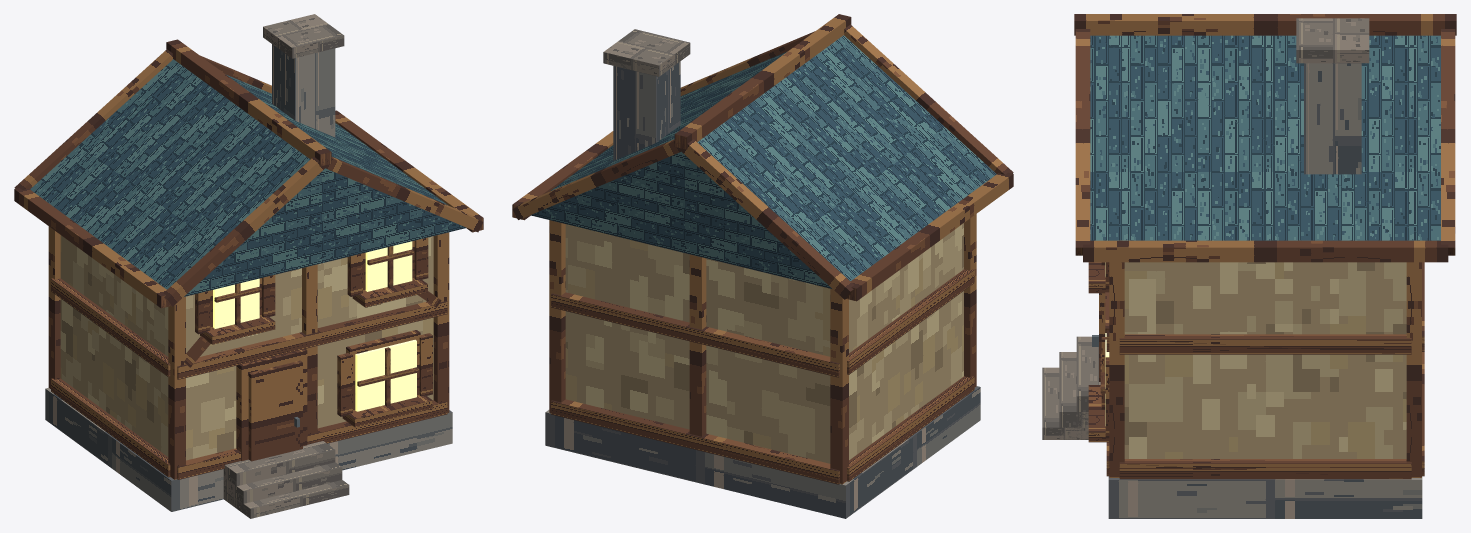
Rendered from cottage.glb.
3 renders of one model, left to right at view 1: azimuth 30°, elevation 25°; view 2: azimuth 150°, elevation 25°; view 3: azimuth 270°, elevation 25°, orthographic. The views are drawn at different scales.
Visible parts, largest first — view 1: cottage_wood, cottage_roof, cottage_plaster, cottage_brick, cottage_stone, cottage_glass; view 2: cottage_roof, cottage_plaster, cottage_wood, cottage_brick, cottage_stone; view 3: cottage_roof, cottage_plaster, cottage_wood, cottage_brick, cottage_stone.
Part boxes in pixels (x1=…): cottage_wood: x1=14, y1=39, x2=483, y2=479; cottage_roof: x1=30, y1=59, x2=466, y2=296; cottage_plaster: x1=60, y1=235, x2=433, y2=460; cottage_brick: x1=45, y1=44, x2=452, y2=511; cottage_stone: x1=223, y1=14, x2=349, y2=518; cottage_glass: x1=213, y1=241, x2=416, y2=411; cottage_roof: x1=530, y1=35, x2=996, y2=288; cottage_plaster: x1=565, y1=223, x2=963, y2=463; cottage_wood: x1=512, y1=14, x2=1013, y2=484; cottage_brick: x1=545, y1=61, x2=980, y2=518; cottage_stone: x1=603, y1=29, x2=690, y2=76; cottage_roof: x1=1090, y1=35, x2=1440, y2=240; cottage_plaster: x1=1124, y1=262, x2=1406, y2=458; cottage_wood: x1=1074, y1=14, x2=1456, y2=479; cottage_brick: x1=1108, y1=63, x2=1422, y2=518; cottage_stone: x1=1042, y1=18, x2=1369, y2=439.
Bounding box in the file's own units: 5.39 × 5.76 × 4.82.
7 materials, 5 textured.
